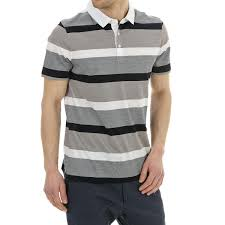C_polo shirt: (37, 5, 175, 173)
